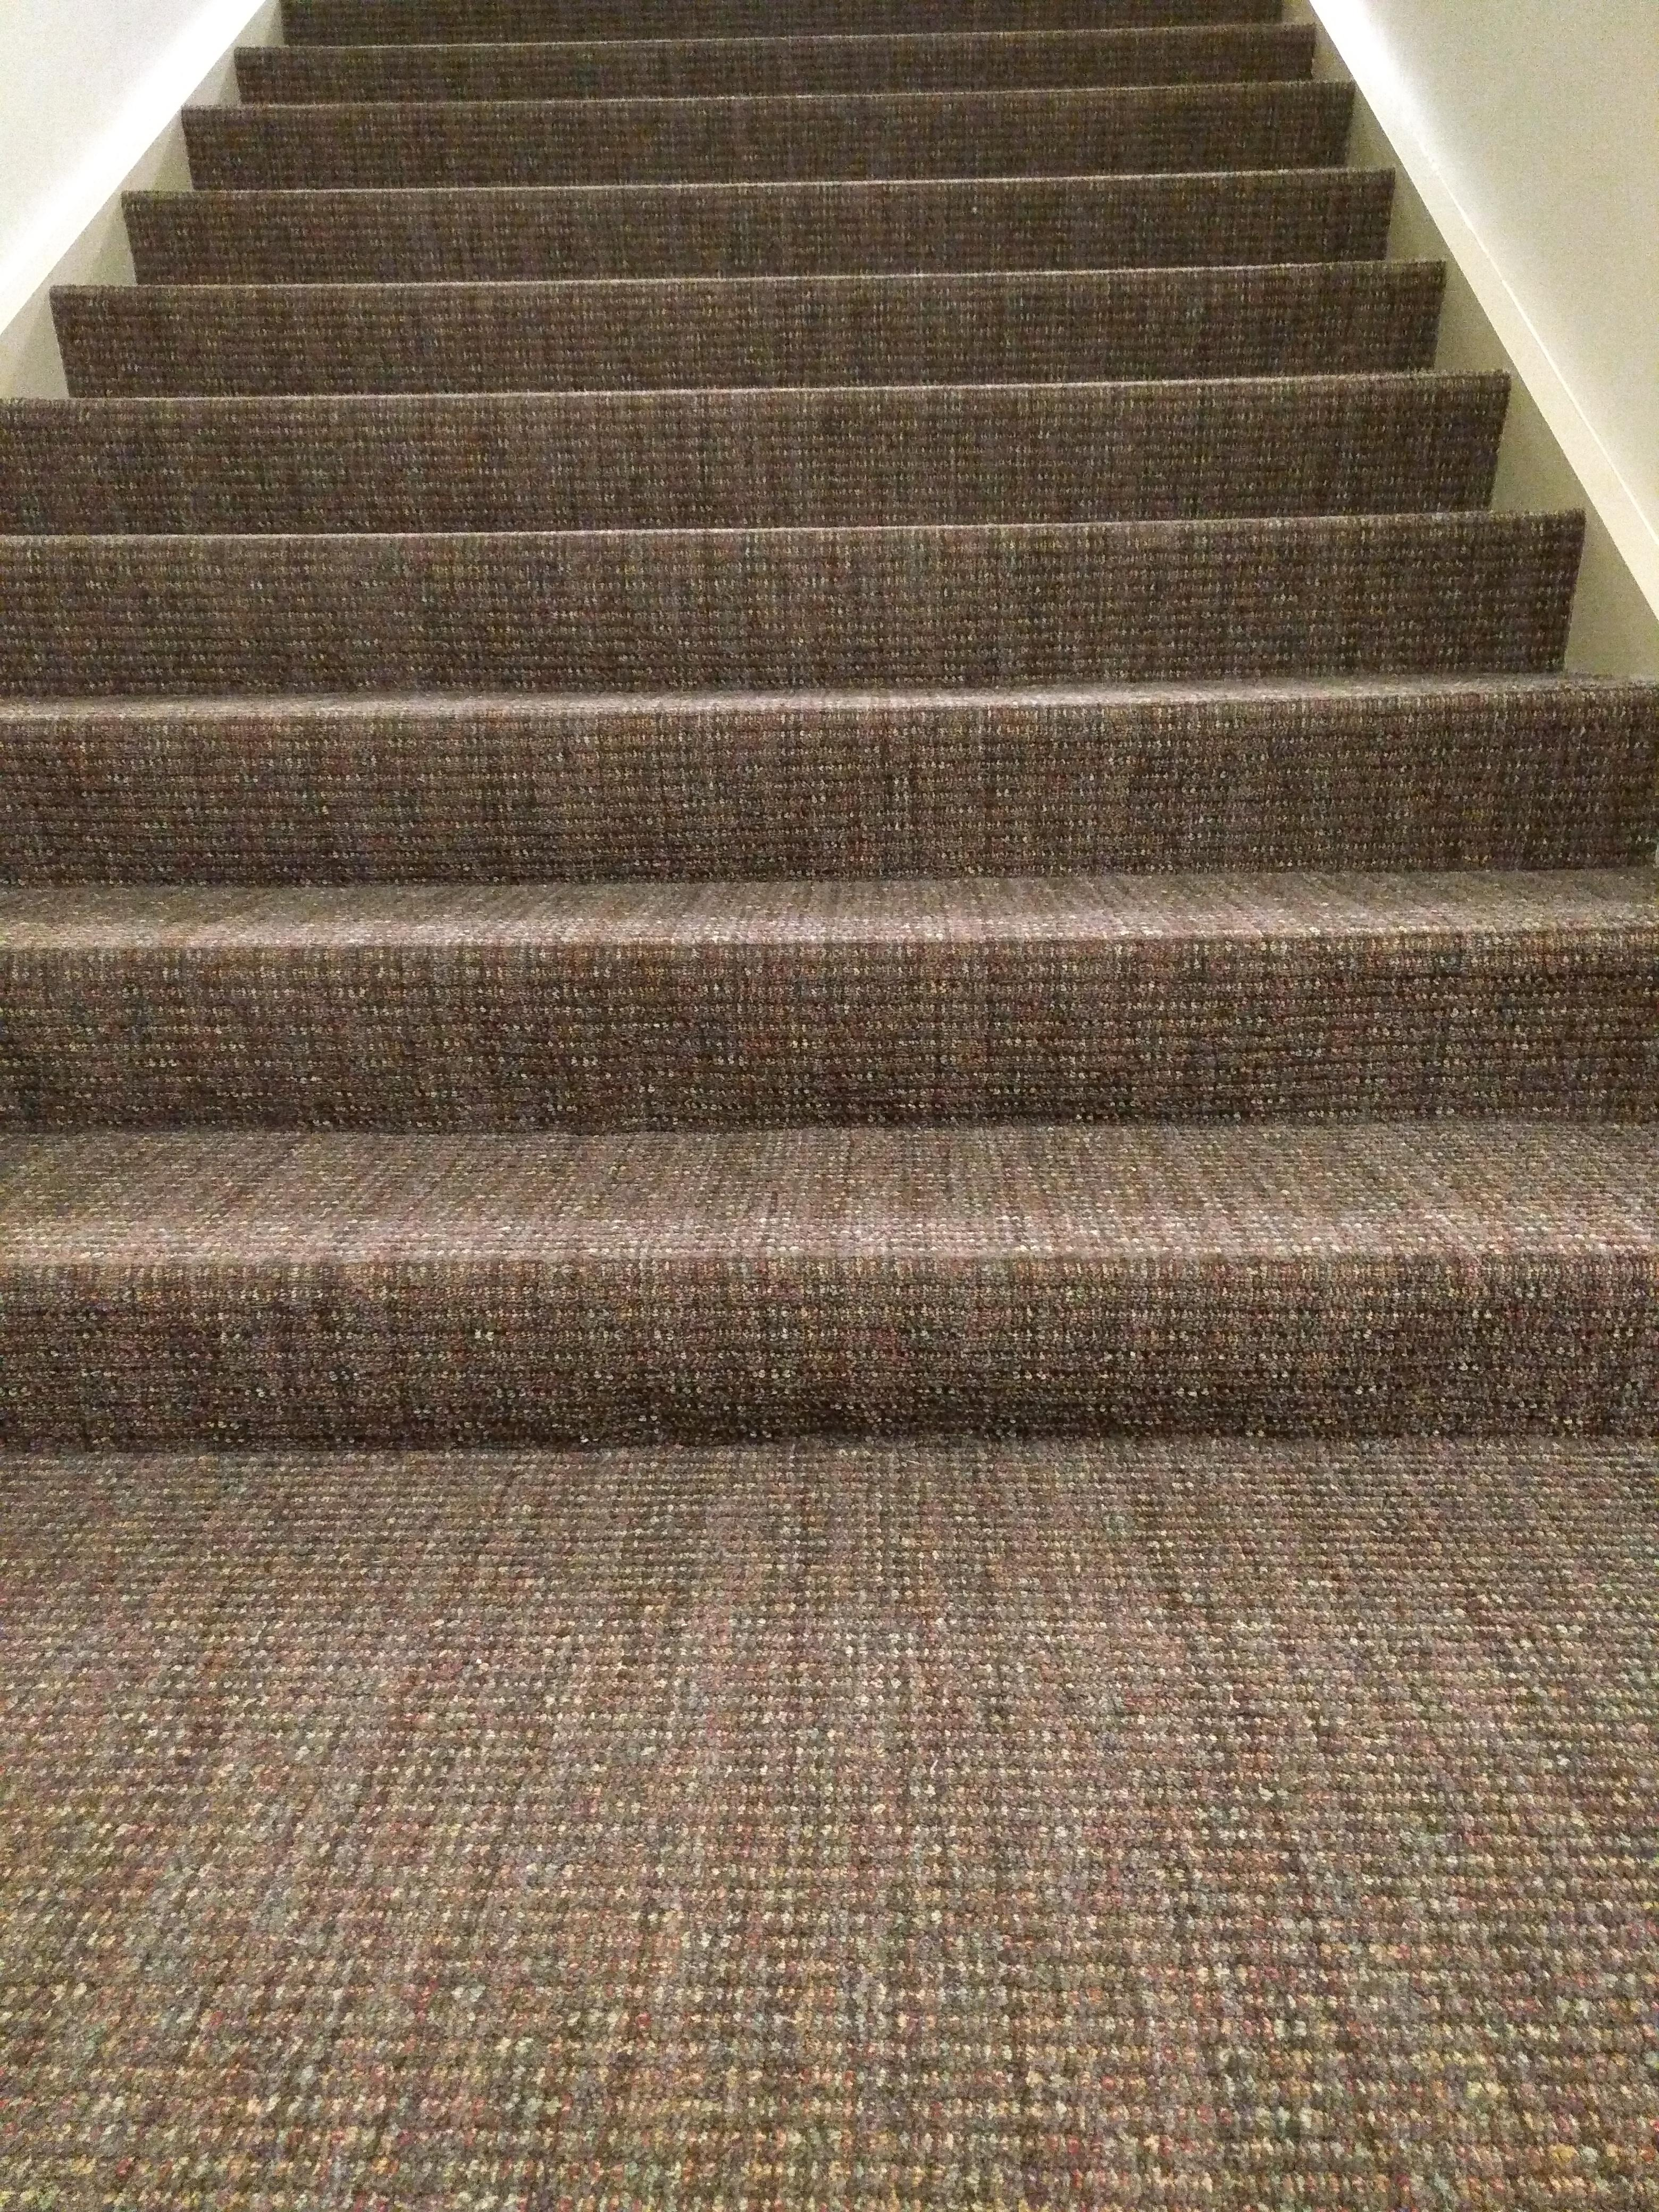stairs_up: (16, 0, 1647, 1458)
